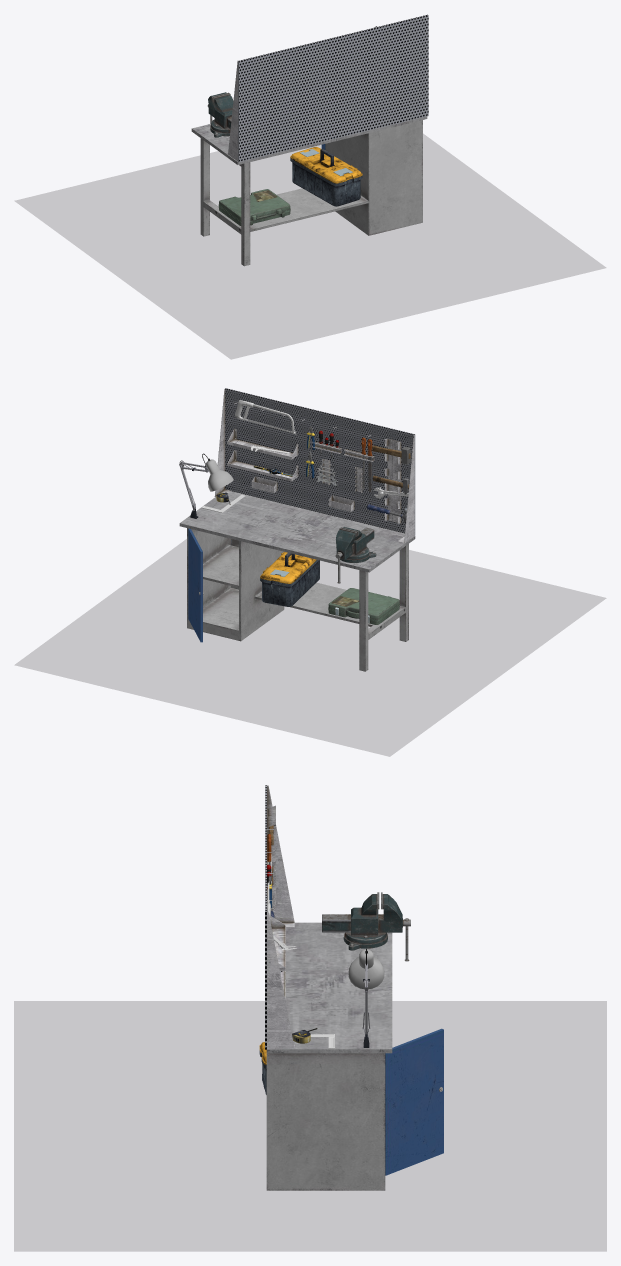
File: Tool Table.gltf
3 views of the same model, one above another, from view 1: azimuth 30°, elevation 25°; view 2: azimuth 150°, elevation 25°; view 3: azimuth 270°, elevation 25° (orthographic). The views are drawn at different scales.
Visible parts, largest first — view 1: model_6; view 2: model_6; view 3: model_6.
Part boxes in pixels (x1,y1,x2,y2): model_6: (14, 14, 606, 359); model_6: (14, 388, 606, 756); model_6: (14, 785, 606, 1251).
Bounding box in the file's own units: 3 × 1.58 × 3.
17 materials, 14 textured.
